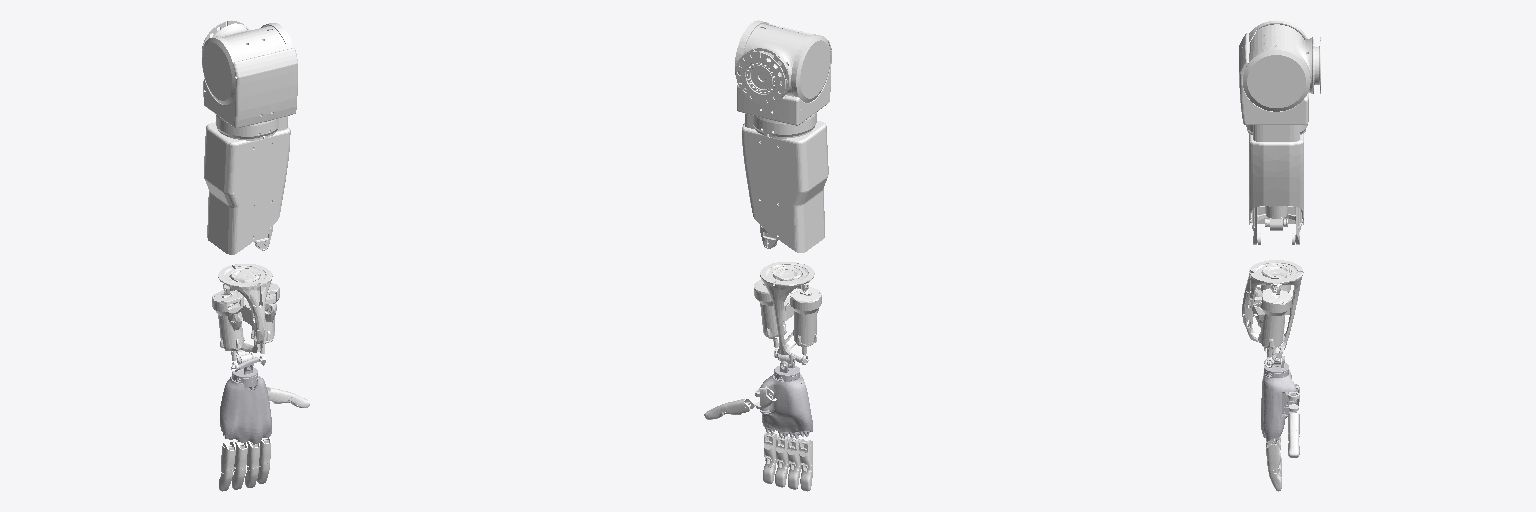
robot.urdf — right_arm:
<?xml version="1.0" encoding="utf-8"?>
<robot name="right_arm">

  <link name="base_link"/>
  
  <link
    name="right_shoulder_pitch">
    <inertial>
      <origin
        xyz="-0.000967 0.002123 0.065723"
        rpy="0 0 0" />
      <mass
        value="1.629" />
      <inertia
        ixx="0.00240062"
        ixy="4.52300000E-06"
        ixz="-1.86140000E-05"
        iyy="0.002402194"
        iyz="5.47000000E-07"
        izz="0.001715235" />
    </inertial>
    <visual>
      <origin
        xyz="0 0 0"
        rpy="0 0 0" />
      <geometry>
        <mesh
          filename="./meshes/right_shoulder_pitch.STL" />
      </geometry>
      <material
        name="">
        <color
          rgba="1 1 1 1" />
      </material>
    </visual>
    <collision>
      <origin
        xyz="0 0 0"
        rpy="0 0 0" />
      <geometry>
        <mesh
          filename="./meshes/right_shoulder_pitch.STL" />
      </geometry>
    </collision>
  </link>
  
  <joint
    name="right_shoulder_pitch"
    type="revolute">
    <origin
      xyz="-0.0199999999999999 -0.13949999999999 0.404"
      rpy="1.5707963267949 0 0" />
    <parent
      link="base_link" />
    <child
      link="right_shoulder_pitch" />
    <axis
      xyz="0 0 1" />
    <limit
      lower="-1.58"
      upper="3.16"
      effort="130"
      velocity="2.62" />
  </joint>

  <link
    name="right_shoulder_roll">
    <inertial>
      <origin
        xyz="0.026226 0.001521 0.001953"
        rpy="0 0 0" />
      <mass
        value="1.587" />
      <inertia
        ixx="0.002776752"
        ixy="-1.03338000E-04"
        ixz="-8.41630000E-05"
        iyy="0.004808881"
        iyz="-8.84000000E-07"
        izz="0.004198481" />
    </inertial>
    <visual>
      <origin
        xyz="0 0 0"
        rpy="0 0 0" />
      <geometry>
        <mesh
          filename="./meshes/right_shoulder_roll.STL" />
      </geometry>
      <material
        name="">
        <color
          rgba="1 1 1 1" />
      </material>
    </visual>
    <collision>
      <origin
        xyz="0 0 0"
        rpy="0 0 0" />
      <geometry>
        <mesh
          filename="./meshes/right_shoulder_roll.STL" />
      </geometry>
    </collision>
  </link>
  <joint
    name="right_shoulder_roll"
    type="revolute">
    <origin
      xyz="0 0 0.077"
      rpy="1.5707963267949 0 -1.5707963267949" />
    <parent
      link="right_shoulder_pitch" />
    <child
      link="right_shoulder_roll" />
    <axis
      xyz="0 0 1" />
    <limit
      lower="0"
      upper="1.58"
      effort="130"
      velocity="2.62" />
  </joint>
  <link
    name="right_shoulder_yaw">
    <inertial>
      <origin
        xyz="0.000001 -0.006031 0.087644"
        rpy="0 0 0" />
      <mass
        value="1.25" />
      <inertia
        ixx="0.004255287"
        ixy="9.80000000E-08"
        ixz="1.26000000E-07"
        iyy="0.004278856"
        iyz="-2.28902000E-04"
        izz="0.001603734" />
    </inertial>
    <visual>
      <origin
        xyz="0 0 0"
        rpy="0 0 0" />
      <geometry>
        <mesh
          filename="./meshes/right_shoulder_yaw.STL" />
      </geometry>
      <material
        name="">
        <color
          rgba="1 1 1 1" />
      </material>
    </visual>
    <collision>
      <origin
        xyz="0 0 0"
        rpy="0 0 0" />
      <geometry>
        <mesh
          filename="./meshes/right_shoulder_yaw.STL" />
      </geometry>
    </collision>
  </link>
  <joint
    name="right_shoulder_yaw"
    type="revolute">
    <origin
      xyz="0.118500000000157 0 0"
      rpy="-1.5707963267949 0 -1.5707963267949" />
    <parent
      link="right_shoulder_roll" />
    <child
      link="right_shoulder_yaw" />
    <axis
      xyz="0 0 1" />
    <limit
      lower="-1.58"
      upper="1.58"
      effort="163"
      velocity="2.1" />
  </joint>
  <link
    name="right_elbow_pitch">
    <inertial>
      <origin
        xyz="0.01558 0.036436 -0.000005"
        rpy="0 0 0" />
      <mass
        value="1.064" />
      <inertia
        ixx="0.00124594"
        ixy="3.27260000E-05"
        ixz="-1.20000000E-07"
        iyy="8.74858000E-04"
        iyz="1.90000000E-08"
        izz="0.001140589" />
    </inertial>
    <visual>
      <origin
        xyz="0 0 0"
        rpy="0 0 0" />
      <geometry>
        <mesh
          filename="./meshes/right_elbow_pitch.STL" />
      </geometry>
      <material
        name="">
        <color
          rgba="1 1 1 1" />
      </material>
    </visual>
    <collision>
      <origin
        xyz="0 0 0"
        rpy="0 0 0" />
      <geometry>
        <mesh
          filename="./meshes/right_elbow_pitch.STL" />
      </geometry>
    </collision>
  </link>
  <joint
    name="right_elbow_pitch"
    type="revolute">
    <origin
      xyz="0 0.00700000000000011 0.210500002920037"
      rpy="1.57079624091144 0 -1.5707963267949" />
    <parent
      link="right_shoulder_yaw" />
    <child
      link="right_elbow_pitch" />
    <axis
      xyz="0 0 1" />
    <limit
      lower="0"
      upper="2.27"
      effort="60"
      velocity="6.67" />
  </joint>
  <link
    name="right_elbow_yaw">
    <inertial>
      <origin
        xyz="0.000525 -0.005407 0.068814"
        rpy="0 0 0" />
      <mass
        value="0.969" />
      <inertia
        ixx="0.001612882"
        ixy="3.28100000E-06"
        ixz="1.10300000E-05"
        iyy="0.002250348"
        iyz="-9.20090000E-05"
        izz="0.001315961" />
    </inertial>
    <visual>
      <origin
        xyz="0 0 0"
        rpy="0 0 0" />
      <geometry>
        <mesh
          filename="./meshes/right_elbow_yaw.STL" />
      </geometry>
      <material
        name="">
        <color
          rgba="1 1 1 1" />
      </material>
    </visual>
    <collision>
      <origin
        xyz="0 0 0"
        rpy="0 0 0" />
      <geometry>
        <mesh
          filename="./meshes/right_elbow_yaw.STL" />
      </geometry>
    </collision>
  </link>
  <joint
    name="right_elbow_yaw"
    type="revolute">
    <origin
      xyz="0.0150000000000032 0.0719999970799724 0"
      rpy="-1.5707963267949 0 0" />
    <parent
      link="right_elbow_pitch" />
    <child
      link="right_elbow_yaw" />
    <axis
      xyz="0 0 -1" />
    <limit
      lower="-2.1"
      upper="2.1"
      effort="31"
      velocity="2.62" />
  </joint>
  <link
    name="right_wrist_pitch">
    <inertial>
      <origin
        xyz="0.000 0.004355 0.000"
        rpy="0 0 0" />
      <mass
        value="0.023" />
      <inertia
        ixx="1.819E-06"
        ixy="0.000"
        ixz="0.000"
        iyy="1.224E-06"
        iyz="0.000"
        izz="1.598E-06" />
    </inertial>
    <visual>
      <origin
        xyz="0 0 0"
        rpy="0 0 0" />
      <geometry>
        <mesh
          filename="./meshes/right_wrist_pitch.STL" />
      </geometry>
      <material
        name="">
        <color
          rgba="1 1 1 1" />
      </material>
    </visual>
    <collision>
      <origin
        xyz="0 0 0"
        rpy="0 0 0" />
      <geometry>
        <mesh
          filename="./meshes/right_wrist_pitch.STL" />
      </geometry>
    </collision>
  </link>
  <joint
    name="right_wrist_pitch"
    type="revolute">
    <origin
      xyz="0 0 0.163900011337"
      rpy="1.5707963267949 0 1.5707963267949" />
    <parent
      link="right_elbow_yaw" />
    <child
      link="right_wrist_pitch" />
    <axis
      xyz="0 0 1" />
    <limit
      lower="-0.7"
      upper="0.35"
      effort="15"
      velocity="3.96" />
  </joint>
  <link
    name="right_wrist_yaw">
    <inertial>
      <origin
        xyz="0.002637 -0.070305 -0.003387"
        rpy="0 0 1.5708" />
      <mass
        value="0.883" />
      <inertia
        ixx="5.75504E-04"
        ixy="3.3074E-05"
        ixz="-6.5114E-05"
        iyy="0.001386001"
        iyz="8.639E-06"
        izz="0.001654265" />
    </inertial>
    <visual>
      <origin
        xyz="0 0 0"
        rpy="0 0 1.5708" />
      <geometry>
        <mesh
          filename="./meshes/right_wrist_yaw.STL" />
      </geometry>
      <material
        name="">
        <color
          rgba="0.86667 0.86667 0.8902 1" />
      </material>
    </visual>
    <collision>
      <origin
        xyz="0 0 0"
        rpy="0 0 1.5708" />
      <geometry>
        <mesh
          filename="./meshes/right_wrist_yaw.STL" />
      </geometry>
    </collision>
  </link>
  <joint
    name="right_wrist_yaw"
    type="revolute">
    <origin
      xyz="0 0.01 0"
      rpy="3.14159265358979 1.5707963267949 0" />
    <parent
      link="right_wrist_pitch" />
    <child
      link="right_wrist_yaw" />
    <axis
      xyz="0 0 1" />
    <limit
      lower="-1.31"
      upper="0.96"
      effort="15"
      velocity="10.21" />
  </joint>
  <link
    name="right_thumb_1_roll">
    <inertial>
      <origin
        xyz="0.000503 -0.011994 -0.007120"
        rpy="0 0 0" />
      <mass
        value="0.025" />
      <inertia
        ixx="4.561E-06"
        ixy="5.300E-08"
        ixz="-3.100E-08"
        iyy="3.611E-06"
        iyz="3.91E-07"
        izz="2.652E-06" />
    </inertial>
    <visual>
      <origin
        xyz="0 0 0"
        rpy="0 0 0" />
      <geometry>
        <mesh
          filename="./meshes/right_thumb_1_roll.STL" />
      </geometry>
      <material
        name="">
        <color
          rgba="1 1 1 1" />
      </material>
    </visual>
    <collision>
      <origin
        xyz="0 0 0"
        rpy="0 0 0" />
      <geometry>
        <mesh
          filename="./meshes/right_thumb_1_roll.STL" />
      </geometry>
    </collision>
  </link>
  <joint
    name="right_thumb_1_roll"
    type="revolute">
    <origin
      xyz="0.0355434265047999 -0.065711011608865 -0.030472166772028"
      rpy="1.5707963267949 1.5707963267949 0" />
    <parent
      link="right_wrist_yaw" />
    <child
      link="right_thumb_1_roll" />
    <axis
      xyz="0 0 1" />
    <limit
      lower="0"
      upper="1.75"
      effort="0.5"
      velocity="1.5" />
  </joint>
  <link
    name="right_thumb_2_pitch">
    <inertial>
      <origin
        xyz="-0.019570 0.006657 0"
        rpy="0 0 0" />
      <mass
        value="0.031" />
      <inertia
        ixx="3.07100000E-06"
        ixy="-1.51700000E-06"
        ixz="0.000"
        iyy="6.09800000E-06"
        iyz="0.000"
        izz="6.60000000E-06" />
    </inertial>
    <visual>
      <origin
        xyz="0 0 0"
        rpy="0 0 0" />
      <geometry>
        <mesh
          filename="./meshes/right_thumb_2_pitch.STL" />
      </geometry>
      <material
        name="">
        <color
          rgba="1 1 1 1" />
      </material>
    </visual>
    <collision>
      <origin
        xyz="0 0 0"
        rpy="0 0 0" />
      <geometry>
        <mesh
          filename="./meshes/right_thumb_2_pitch.STL" />
      </geometry>
    </collision>
  </link>
  <joint
    name="right_thumb_2_pitch"
    type="revolute">
    <origin
      xyz="0 0.0240000010235686 0.019149997148431"
      rpy="1.5707963267949 0 -1.5707963267949" />
    <parent
      link="right_thumb_1_roll" />
    <child
      link="right_thumb_2_pitch" />
    <axis
      xyz="0 0 -1" />
    <limit
      lower="0"
      upper="1.58"
      effort="0.5"
      velocity="1.5" />
  </joint>
  <link
    name="right_thumb_3_pitch">
    <inertial>
      <origin
        xyz="-0.022652 0.010625 0.000"
        rpy="0 0 0" />
      <mass
        value="0.0226" />
      <inertia
        ixx="2.02300000E-06"
        ixy="-1.58500000E-06"
        ixz="0.000"
        iyy="3.68200000E-06"
        iyz="0.000"
        izz="4.55500000E-06" />
    </inertial>
    <visual>
      <origin
        xyz="0 0 0"
        rpy="0 0 0" />
      <geometry>
        <mesh
          filename="./meshes/right_thumb_3_pitch.STL" />
      </geometry>
      <material
        name="">
        <color
          rgba="1 1 1 1" />
      </material>
    </visual>
    <collision>
      <origin
        xyz="0 0 0"
        rpy="0 0 0" />
      <geometry>
        <mesh
          filename="./meshes/right_thumb_3_pitch.STL" />
      </geometry>
    </collision>
  </link>
  <joint
    name="right_thumb_3_pitch"
    type="revolute">
    <origin
      xyz="-0.039467089053791 0.0143648488386837 0"
      rpy="0 0 0" />
    <parent
      link="right_thumb_2_pitch" />
    <child
      link="right_thumb_3_pitch" />
    <axis
      xyz="0 0 -1" />
    <limit
      lower="0"
      upper="1.58"
      effort="0.5"
      velocity="1.5" />
  </joint>
  <link
    name="right_index_finger_2_pitch">
    <inertial>
      <origin
        xyz="-0.000424 0.020629 0"
        rpy="0 0 0" />
      <mass
        value="0.0308" />
      <inertia
        ixx="6.71900000E-06"
        ixy="1.89000000E-07"
        ixz="0.000"
        iyy="2.45000000E-06"
        iyz="0.000"
        izz="6.60000000E-06" />
    </inertial>
    <visual>
      <origin
        xyz="0 0 0"
        rpy="0 0 0" />
      <geometry>
        <mesh
          filename="./meshes/right_index_finger_2_pitch.STL" />
      </geometry>
      <material
        name="">
        <color
          rgba="1 1 1 1" />
      </material>
    </visual>
    <collision>
      <origin
        xyz="0 0 0"
        rpy="0 0 0" />
      <geometry>
        <mesh
          filename="./meshes/right_index_finger_2_pitch.STL" />
      </geometry>
    </collision>
  </link>
  <joint
    name="right_index_finger_2_pitch"
    type="revolute">
    <origin
      xyz="0.0355434264207082 -0.149999999987412 0.00354779996458673"
      rpy="-3.13755534346985 1.57079580717365 0.00403731011994333" />
    <parent
      link="right_wrist_yaw" />
    <child
      link="right_index_finger_2_pitch" />
    <axis
      xyz="0 0 -1" />
    <limit
      lower="0"
      upper="1.58"
      effort="0.5"
      velocity="1.5" />
  </joint>
  <link
    name="right_index_finger_3_pitch">
    <inertial>
      <origin
        xyz="0.002405 0.021599 0"
        rpy="0 0 0" />
      <mass
        value="0.0189" />
      <inertia
        ixx="2.96700000E-06"
        ixy="6.44000000E-07"
        ixz="0.000"
        iyy="1.02400000E-06"
        iyz="0.000"
        izz="3.12700000E-06" />
    </inertial>
    <visual>
      <origin
        xyz="0 0 0"
        rpy="0 0 0" />
      <geometry>
        <mesh
          filename="./meshes/right_index_finger_3_pitch.STL" />
      </geometry>
      <material
        name="">
        <color
          rgba="1 1 1 1" />
      </material>
    </visual>
    <collision>
      <origin
        xyz="0 0 0"
        rpy="0 0 0" />
      <geometry>
        <mesh
          filename="./meshes/right_index_finger_3_pitch.STL" />
      </geometry>
    </collision>
  </link>
  <joint
    name="right_index_finger_3_pitch"
    type="revolute">
    <origin
      xyz="0 0.0419999999999999 0"
      rpy="0 0 0" />
    <parent
      link="right_index_finger_2_pitch" />
    <child
      link="right_index_finger_3_pitch" />
    <axis
      xyz="0 0 -1" />
    <limit
      lower="0"
      upper="1.58"
      effort="0.5"
      velocity="1.5" />
  </joint>
  <link
    name="right_middle_finger_2_pitch">
    <inertial>
      <origin
        xyz="-0.000424 0.020629 0"
        rpy="0 0 0" />
      <mass
        value="0.0308" />
      <inertia
        ixx="6.71900000E-06"
        ixy="1.89000000E-07"
        ixz="0.000"
        iyy="2.45000000E-06"
        iyz="0.000"
        izz="6.60000000E-06" />
    </inertial>
    <visual>
      <origin
        xyz="0 0 0"
        rpy="0 0 0" />
      <geometry>
        <mesh
          filename="./meshes/right_middle_finger_2_pitch.STL" />
      </geometry>
      <material
        name="">
        <color
          rgba="1 1 1 1" />
      </material>
    </visual>
    <collision>
      <origin
        xyz="0 0 0"
        rpy="0 0 0" />
      <geometry>
        <mesh
          filename="./meshes/right_middle_finger_2_pitch.STL" />
      </geometry>
    </collision>
  </link>
  <joint
    name="right_middle_finger_2_pitch"
    type="revolute">
    <origin
      xyz="0.0120434256414312 -0.152 0.00504724750212629"
      rpy="3.14159265304057 1.57079580717365 0" />
    <parent
      link="right_wrist_yaw" />
    <child
      link="right_middle_finger_2_pitch" />
    <axis
      xyz="0 0 -1" />
    <limit
      lower="0"
      upper="1.58"
      effort="0.5"
      velocity="1.5" />
  </joint>
  <link
    name="right_middle_finger_3_pitch">
    <inertial>
      <origin
        xyz="0.002405 0.021599 0"
        rpy="0 0 0" />
      <mass
        value="0.0189" />
      <inertia
        ixx="2.96700000E-06"
        ixy="6.44000000E-07"
        ixz="0.000"
        iyy="1.02400000E-06"
        iyz="0.000"
        izz="3.12700000E-06" />
    </inertial>
    <visual>
      <origin
        xyz="0 0 0"
        rpy="0 0 0" />
      <geometry>
        <mesh
          filename="./meshes/right_middle_finger_3_pitch.STL" />
      </geometry>
      <material
        name="">
        <color
          rgba="1 1 1 1" />
      </material>
    </visual>
    <collision>
      <origin
        xyz="0 0 0"
        rpy="0 0 0" />
      <geometry>
        <mesh
          filename="./meshes/right_middle_finger_3_pitch.STL" />
      </geometry>
    </collision>
  </link>
  <joint
    name="right_middle_finger_3_pitch"
    type="revolute">
    <origin
      xyz="0 0.042 0"
      rpy="0 0 0" />
    <parent
      link="right_middle_finger_2_pitch" />
    <child
      link="right_middle_finger_3_pitch" />
    <axis
      xyz="0 0 -1" />
    <limit
      lower="0"
      upper="1.58"
      effort="0.5"
      velocity="1.5" />
  </joint>
  <link
    name="right_ring_finger_2_pitch">
    <inertial>
      <origin
        xyz="-0.000424 0.020629 0"
        rpy="0 0 0" />
      <mass
        value="0.0308" />
      <inertia
        ixx="6.71900000E-06"
        ixy="1.89000000E-07"
        ixz="0.000"
        iyy="2.45000000E-06"
        iyz="0.000"
        izz="6.60000000E-06" />
    </inertial>
    <visual>
      <origin
        xyz="0 0 0"
        rpy="0 0 0" />
      <geometry>
        <mesh
          filename="./meshes/right_ring_finger_2_pitch.STL" />
      </geometry>
      <material
        name="">
        <color
          rgba="1 1 1 1" />
      </material>
    </visual>
    <collision>
      <origin
        xyz="0 0 0"
        rpy="0 0 0" />
      <geometry>
        <mesh
          filename="./meshes/right_ring_finger_2_pitch.STL" />
      </geometry>
    </collision>
  </link>
  <joint
    name="right_ring_finger_2_pitch"
    type="revolute">
    <origin
      xyz="-0.0112889946629825 -0.149634612145833 0.00354621663087709"
      rpy="-3.03018290398437 1.57071101857885 0.0765032666211449" />
    <parent
      link="right_wrist_yaw" />
    <child
      link="right_ring_finger_2_pitch" />
    <axis
      xyz="0 0 -1" />
    <limit
      lower="0"
      upper="1.58"
      effort="0.5"
      velocity="1.5" />
  </joint>
  <link
    name="right_ring_finger_3_pitch">
    <inertial>
      <origin
        xyz="0.002405 0.021599 0"
        rpy="0 0 0" />
      <mass
        value="0.0189" />
      <inertia
        ixx="2.96700000E-06"
        ixy="6.44000000E-07"
        ixz="0.000"
        iyy="1.02400000E-06"
        iyz="0.000"
        izz="3.12700000E-06" />
    </inertial>
    <visual>
      <origin
        xyz="0 0 0"
        rpy="0 0 0" />
      <geometry>
        <mesh
          filename="./meshes/right_ring_finger_3_pitch.STL" />
      </geometry>
      <material
        name="">
        <color
          rgba="1 1 1 1" />
      </material>
    </visual>
    <collision>
      <origin
        xyz="0 0 0"
        rpy="0 0 0" />
      <geometry>
        <mesh
          filename="./meshes/right_ring_finger_3_pitch.STL" />
      </geometry>
    </collision>
  </link>
  <joint
    name="right_ring_finger_3_pitch"
    type="revolute">
    <origin
      xyz="0 0.0419999999936335 0"
      rpy="0 0 0" />
    <parent
      link="right_ring_finger_2_pitch" />
    <child
      link="right_ring_finger_3_pitch" />
    <axis
      xyz="0 0 -1" />
    <limit
      lower="0"
      upper="1.58"
      effort="0.5"
      velocity="1.5" />
  </joint>
  <link
    name="right_little_finger_2_pitch">
    <inertial>
      <origin
        xyz="-0.000424 0.020629 0"
        rpy="0 0 0" />
      <mass
        value="0.0308" />
      <inertia
        ixx="6.71900000E-06"
        ixy="1.89000000E-07"
        ixz="0.000"
        iyy="2.45000000E-06"
        iyz="0.000"
        izz="6.60000000E-06" />
    </inertial>
    <visual>
      <origin
        xyz="0 0 0"
        rpy="0 0 0" />
      <geometry>
        <mesh
          filename="./meshes/right_little_finger_2_pitch.STL" />
      </geometry>
      <material
        name="">
        <color
          rgba="1 1 1 1" />
      </material>
    </visual>
    <collision>
      <origin
        xyz="0 0 0"
        rpy="0 0 0" />
      <geometry>
        <mesh
          filename="./meshes/right_little_finger_2_pitch.STL" />
      </geometry>
    </collision>
  </link>
  <joint
    name="right_little_finger_2_pitch"
    type="revolute">
    <origin
      xyz="-0.0346341052013609 -0.146952858031617 0.0032932169830828"
      rpy="3.14159265204005 1.57079580738735 -0.0698131716295282" />
    <parent
      link="right_wrist_yaw" />
    <child
      link="right_little_finger_2_pitch" />
    <axis
      xyz="0 0 -1" />
    <limit
      lower="0"
      upper="1.58"
      effort="0.5"
      velocity="1.5" />
  </joint>
  <link
    name="right_little_finger_3_pitch">
    <inertial>
      <origin
        xyz="0.002405 0.021599 0"
        rpy="0 0 0" />
      <mass
        value="0.0189" />
      <inertia
        ixx="2.96700000E-06"
        ixy="6.44000000E-07"
        ixz="0.000"
        iyy="1.02400000E-06"
        iyz="0.000"
        izz="3.12700000E-06" />
    </inertial>
    <visual>
      <origin
        xyz="0 0 0"
        rpy="0 0 0" />
      <geometry>
        <mesh
          filename="./meshes/right_little_finger_3_pitch.STL" />
      </geometry>
      <material
        name="">
        <color
          rgba="1 1 1 1" />
      </material>
    </visual>
    <collision>
      <origin
        xyz="0 0 0"
        rpy="0 0 0" />
      <geometry>
        <mesh
          filename="./meshes/right_little_finger_3_pitch.STL" />
      </geometry>
    </collision>
  </link>
  <joint
    name="right_little_finger_3_pitch"
    type="revolute">
    <origin
      xyz="0 0.0419999999999904 0"
      rpy="0 0 0" />
    <parent
      link="right_little_finger_2_pitch" />
    <child
      link="right_little_finger_3_pitch" />
    <axis
      xyz="0 0 -1" />
    <limit
      lower="0"
      upper="1.58"
      effort="0.5"
      velocity="1.5" />
  </joint>
</robot>

--- Render facts (derived) ---
The picture shows the robot from 3 angles, left to right: view 1: azimuth 30°, elevation 25°; view 2: azimuth 150°, elevation 25°; view 3: azimuth 270°, elevation 25°; orthographic projection.
Robot: right_arm — 19 links, 18 joints (18 revolute); root link base_link; default pose: all joints at 0.
Visible links, largest first — view 1: right_shoulder_yaw, right_shoulder_roll, right_elbow_yaw, right_wrist_yaw, right_shoulder_pitch; view 2: right_shoulder_yaw, right_shoulder_roll, right_elbow_yaw, right_shoulder_pitch, right_wrist_yaw; view 3: right_shoulder_roll, right_shoulder_yaw, right_elbow_yaw, right_wrist_yaw, right_shoulder_pitch.
Link boxes in pixels (x1,y1,x2,y2): right_shoulder_yaw: (204, 122, 290, 254); right_shoulder_roll: (202, 23, 297, 140); right_elbow_yaw: (212, 264, 279, 371); right_wrist_yaw: (220, 357, 271, 443); right_shoulder_pitch: (202, 20, 282, 57); right_shoulder_yaw: (742, 121, 828, 252); right_shoulder_roll: (735, 20, 831, 138); right_elbow_yaw: (754, 262, 821, 364); right_shoulder_pitch: (736, 24, 810, 104); right_wrist_yaw: (760, 353, 812, 438); right_shoulder_roll: (1239, 20, 1310, 141); right_shoulder_yaw: (1249, 134, 1303, 244); right_elbow_yaw: (1242, 260, 1303, 366); right_wrist_yaw: (1261, 351, 1296, 443); right_shoulder_pitch: (1250, 24, 1320, 93).
Size in the robot's own frame: 0.21 by 0.1461 by 0.874 metres.
Meshes: 18 distinct files referenced, 17 mesh visuals loaded (17 binary STL); not drawn: 1 (reference not matched to a file when rendering).
